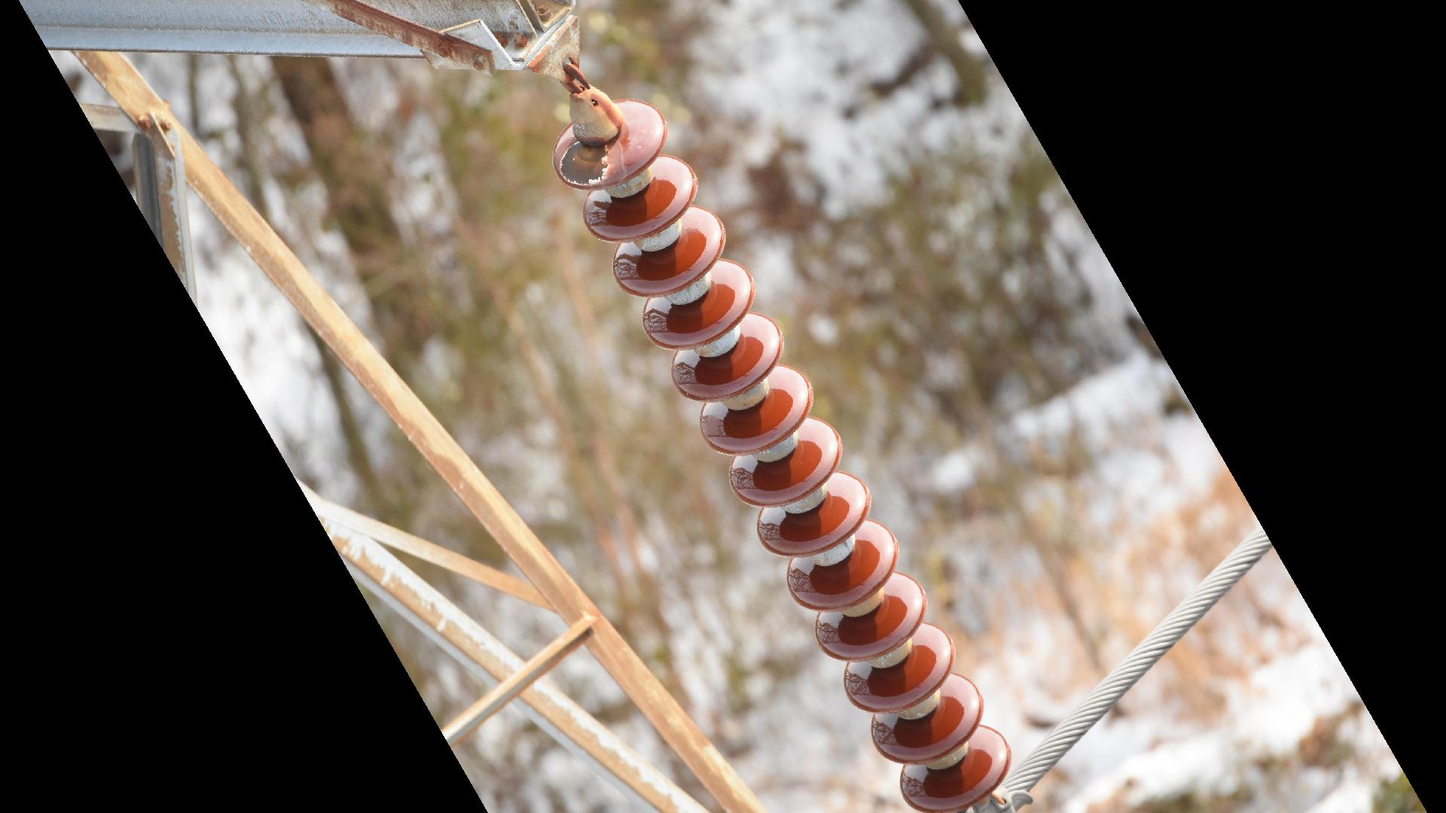insulator: (549, 93, 1014, 813)
insulator_flashover: (557, 137, 612, 187)
